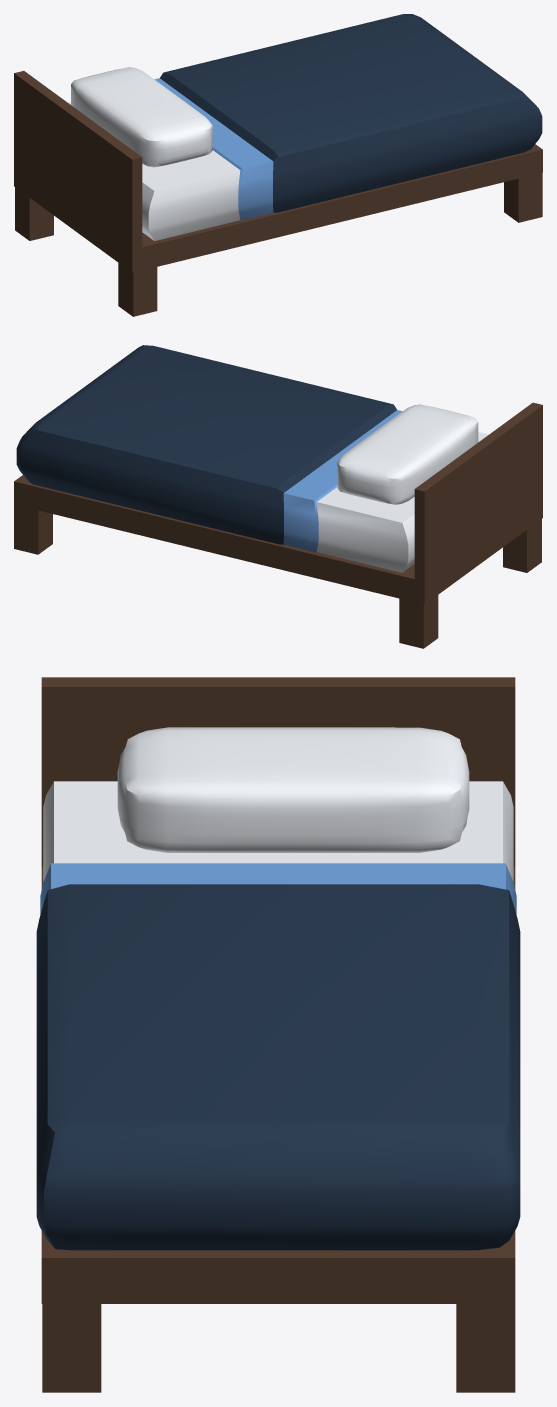
Rendered from cama.fbx.
The picture shows the model from 3 angles, top to bottom: view 1: azimuth 30°, elevation 25°; view 2: azimuth 150°, elevation 25°; view 3: azimuth 270°, elevation 25°; orthographic projection. The views are drawn at different scales.
Visible parts, largest first — view 1: Cube_5, Cube, Cube_6, Cube_4, Cube_2, Cube_3; view 2: Cube_5, Cube, Cube_6, Cube_3, Cube_1, Cube_4; view 3: Cube_5, Cube, Cube_6, Cube_1, Cube_2.
Part boxes in pixels (<box>): Cube_5: <box>68,14,542,240</box>; Cube: <box>14,71,542,272</box>; Cube_6: <box>71,67,212,167</box>; Cube_4: <box>118,233,157,316</box>; Cube_2: <box>504,144,542,222</box>; Cube_3: <box>15,187,53,240</box>; Cube_5: <box>16,345,488,572</box>; Cube: <box>14,402,542,604</box>; Cube_6: <box>337,404,478,504</box>; Cube_3: <box>399,569,438,648</box>; Cube_1: <box>14,475,52,554</box>; Cube_4: <box>503,519,541,572</box>; Cube_5: <box>36,781,520,1250</box>; Cube: <box>41,677,515,1303</box>; Cube_6: <box>117,727,469,852</box>; Cube_1: <box>456,1234,515,1392</box>; Cube_2: <box>42,1234,101,1392</box>.
Size of the model in its own units: 237 by 86.53 by 121.
